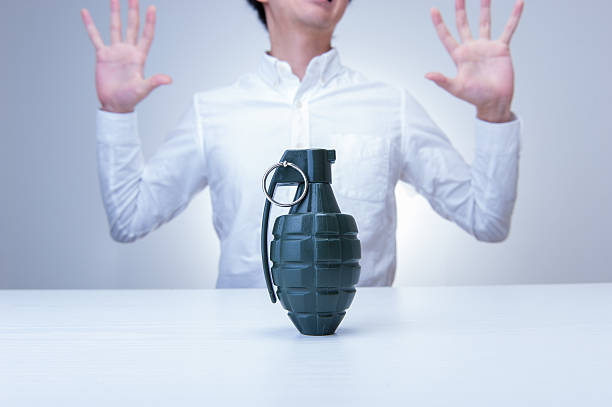e1: (264, 146, 363, 338)
